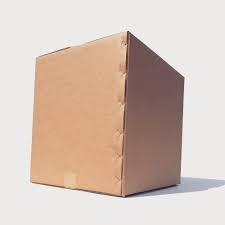box: (29, 31, 184, 198)
